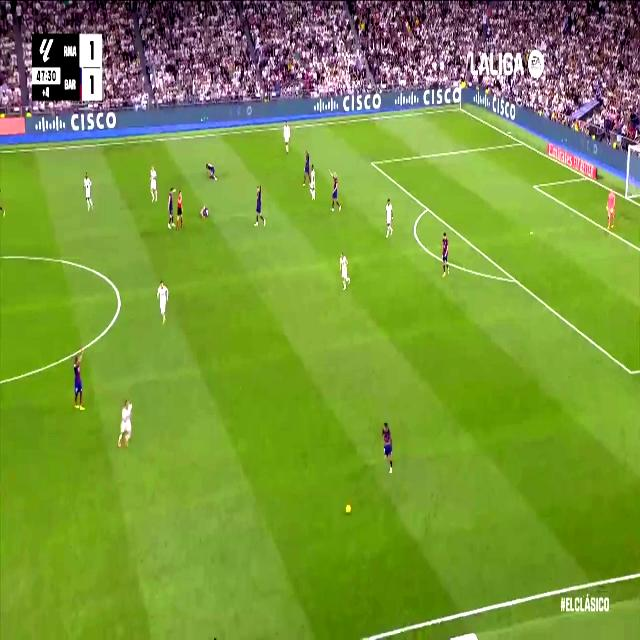bigarea_bottom_inner: (626, 360, 636, 383)
bigarea_top_inner: (369, 156, 375, 169)
bottom_arc_area_intersection: (510, 270, 519, 288)
corner: (456, 104, 464, 114)
smallarea_top_inner: (532, 181, 537, 191)
top_arc_area_intersection: (424, 201, 430, 214)
